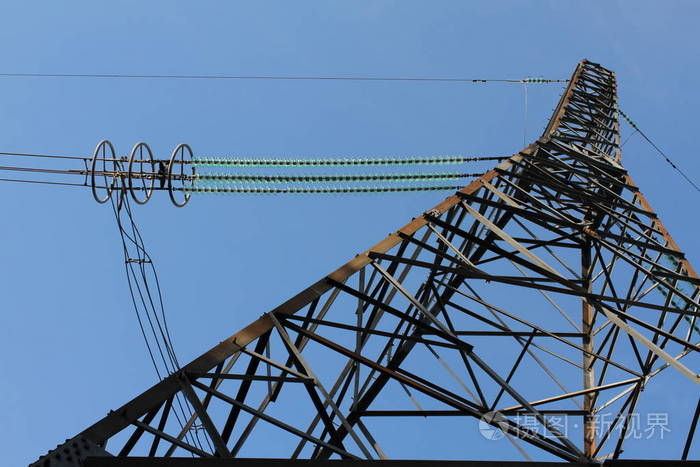insulator: (185, 148, 467, 199)
